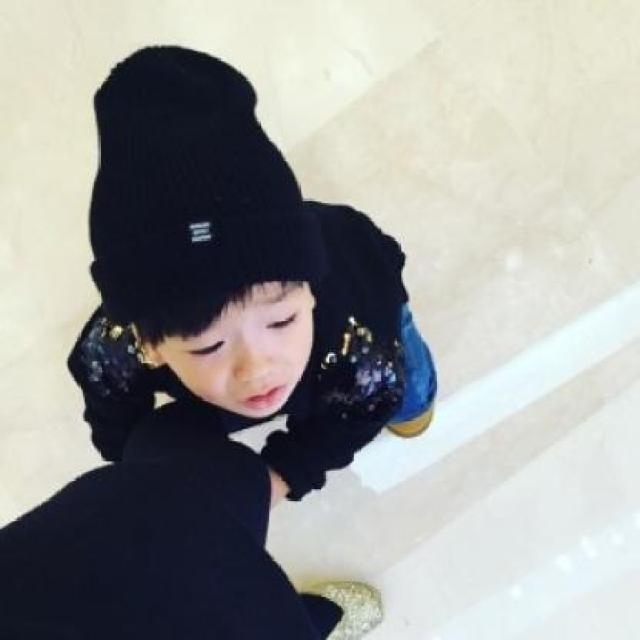hat: (89, 44, 318, 288)
